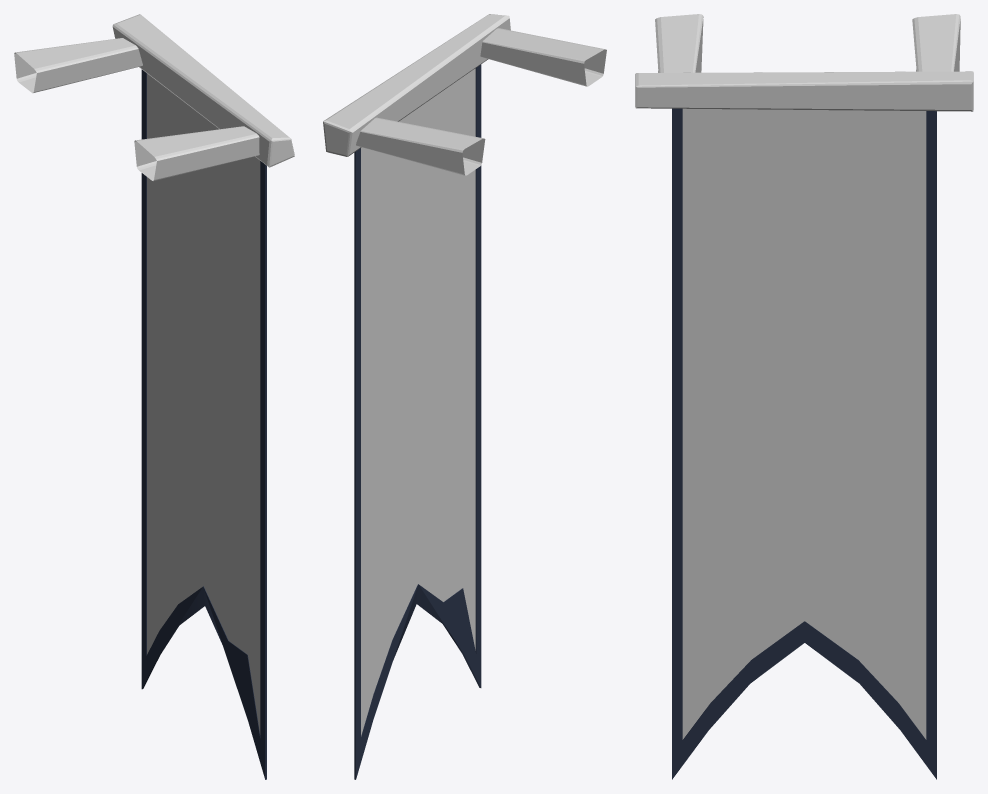
Rendered from WallBanner00.fbx.
3 views of the same model, side by side, from view 1: azimuth 30°, elevation 25°; view 2: azimuth 150°, elevation 25°; view 3: azimuth 270°, elevation 25° (orthographic). The views are drawn at different scales.
Parts seen in each view (by area): view 1: WallBanner00, PoleBanner, PoleLeg_Right, PoleLeg_Left; view 2: WallBanner00, PoleBanner, PoleLeg_Right, PoleLeg_Left; view 3: WallBanner00, PoleBanner, PoleLeg_Left, PoleLeg_Right.
Part boxes in pixels (x1,y1,x2,y2): WallBanner00: [141, 69, 266, 779]; PoleBanner: [112, 14, 294, 167]; PoleLeg_Right: [14, 38, 142, 93]; PoleLeg_Left: [134, 126, 259, 180]; WallBanner00: [354, 64, 481, 779]; PoleBanner: [323, 14, 510, 156]; PoleLeg_Right: [356, 117, 485, 175]; PoleLeg_Left: [480, 28, 606, 86]; WallBanner00: [672, 108, 936, 779]; PoleBanner: [635, 71, 973, 111]; PoleLeg_Left: [655, 14, 703, 72]; PoleLeg_Right: [912, 14, 960, 71].
Size of the model in its own units: 169 by 804 by 349.
